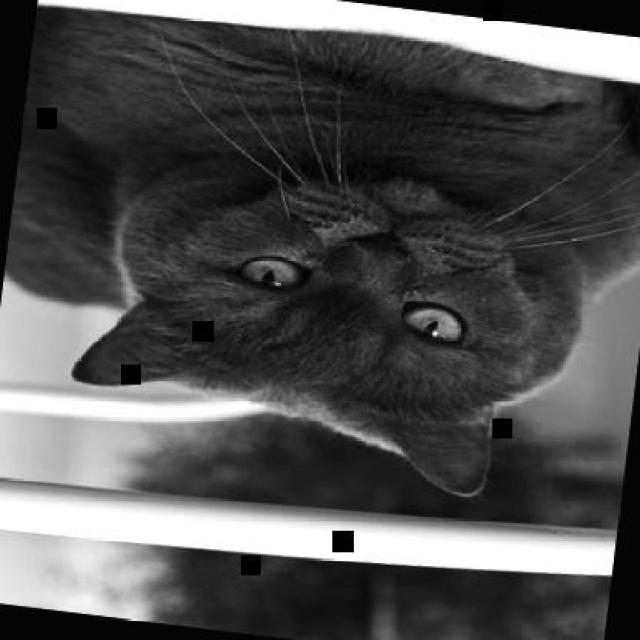cat: (0, 0, 638, 515)
